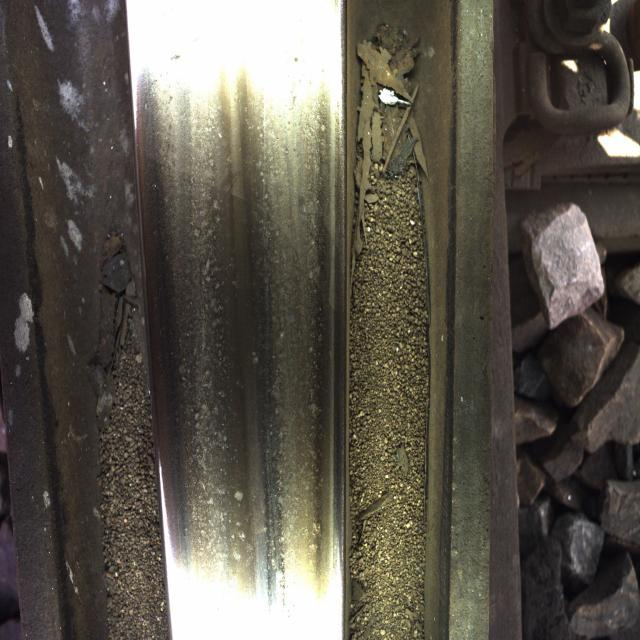scar: (166, 92, 249, 518), (250, 78, 324, 488)
